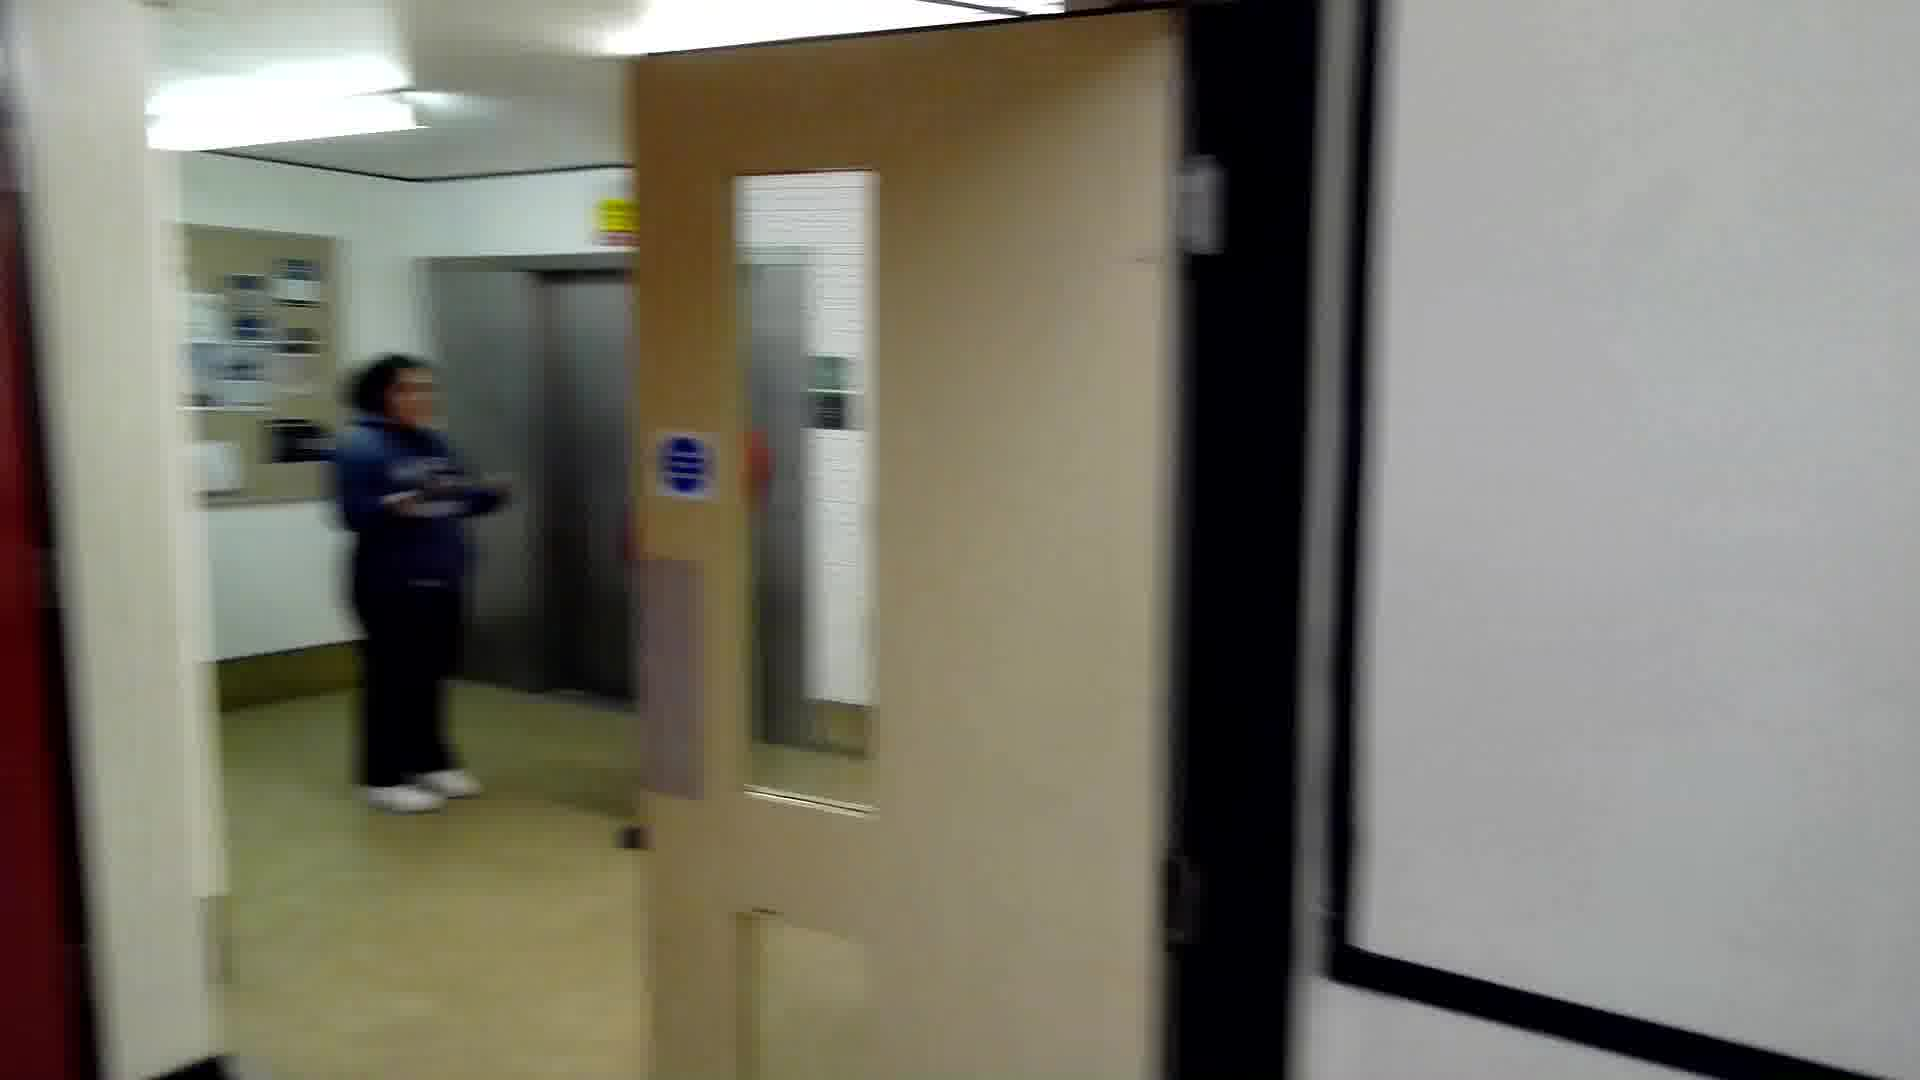Door: (614, 13, 1186, 1080)
Person: (320, 347, 504, 830)
